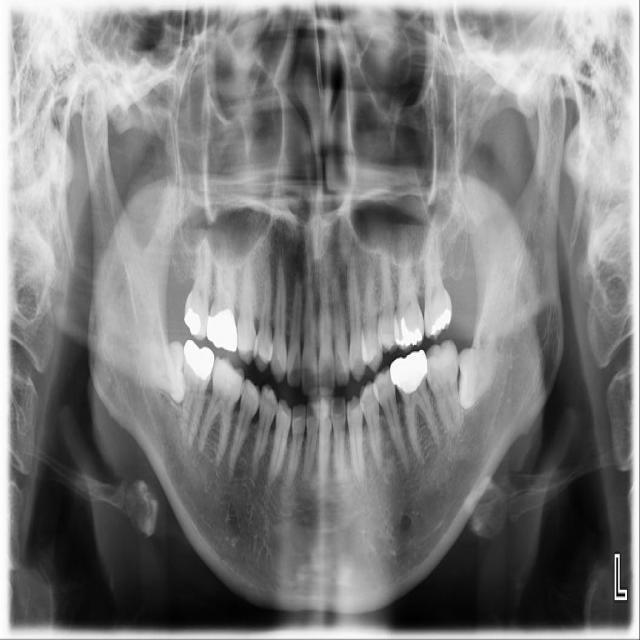52: (384, 348, 438, 402), (176, 338, 218, 388), (393, 301, 425, 354), (424, 287, 454, 341), (206, 304, 238, 354), (182, 287, 211, 341)
73: (597, 582, 608, 598)
BioHorizons Implant: (422, 225, 453, 341)
Biomet 3i Implant: (457, 330, 500, 411)
Blue Sky Bio Implant: (423, 339, 463, 436)
Caries: (181, 225, 218, 342)
Implant: (180, 339, 215, 447)
Keystone Dental Implant: (146, 339, 187, 404)
